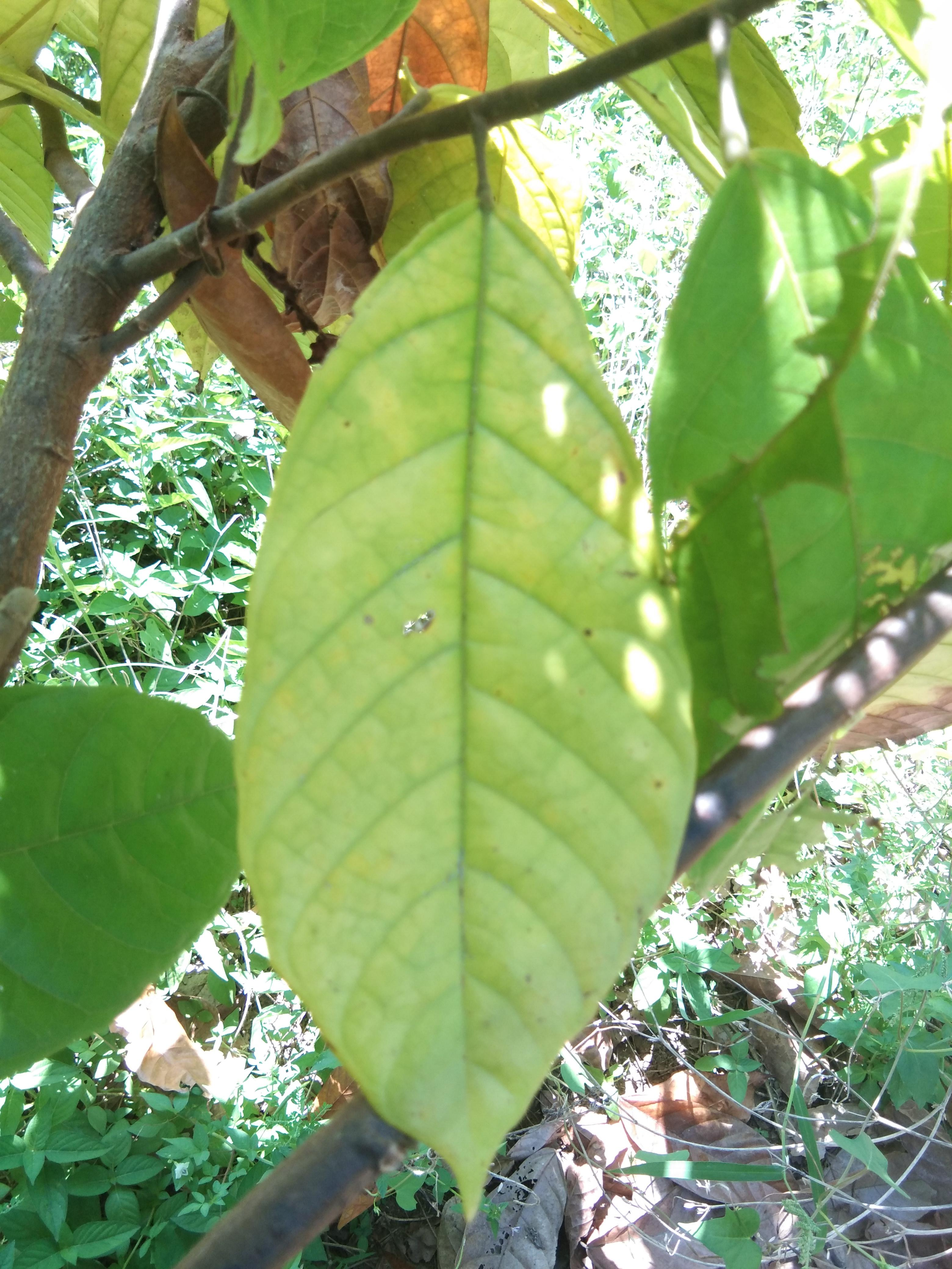deficiencia_potasio: (230, 192, 700, 1230)
